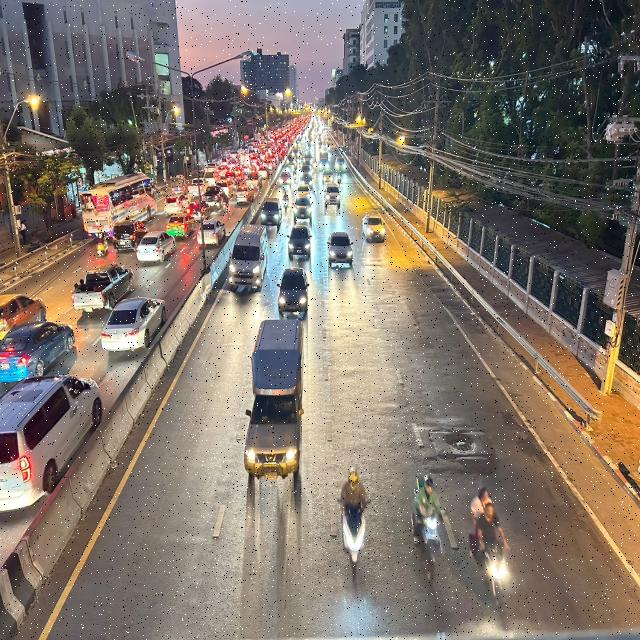bike: (461, 474, 521, 620), (405, 464, 451, 582), (336, 458, 372, 592)
truck: (237, 312, 311, 489)
